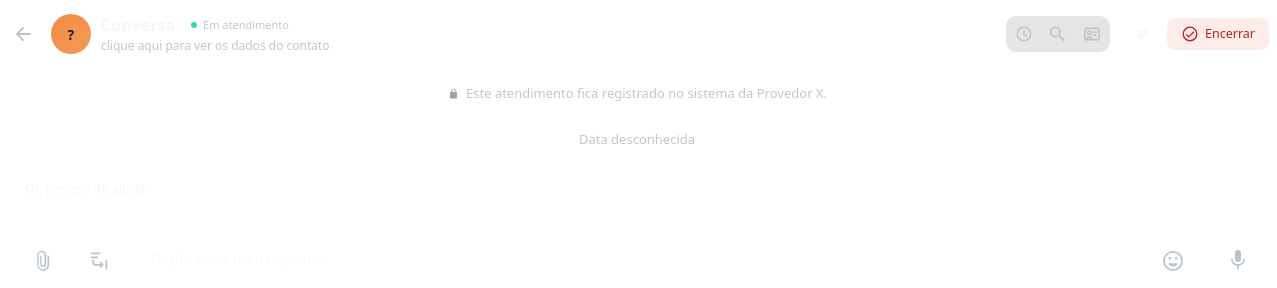
Test: SGP lookup panel › sem documento vinculado, abre sem consulta e pede o documento
Click the button named "Consultar SGP": (1058, 34) [1042, 18, 1074, 50]
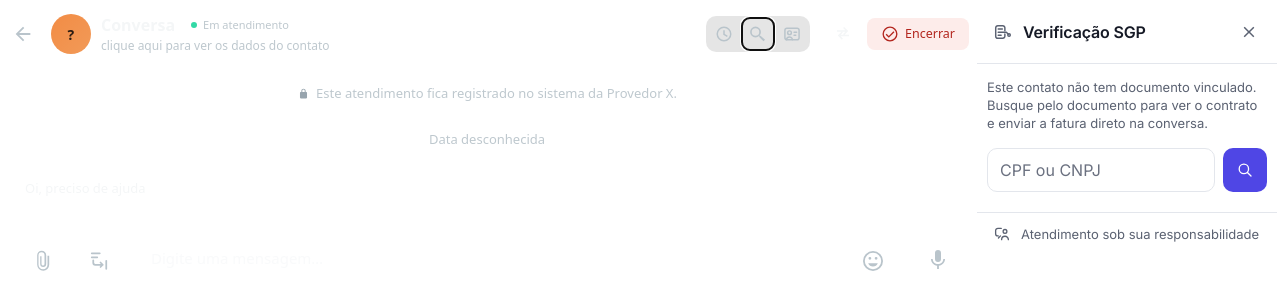
Expected: the field named "CPF ou CNPJ do cliente" is shown, [987, 148, 1215, 192]
